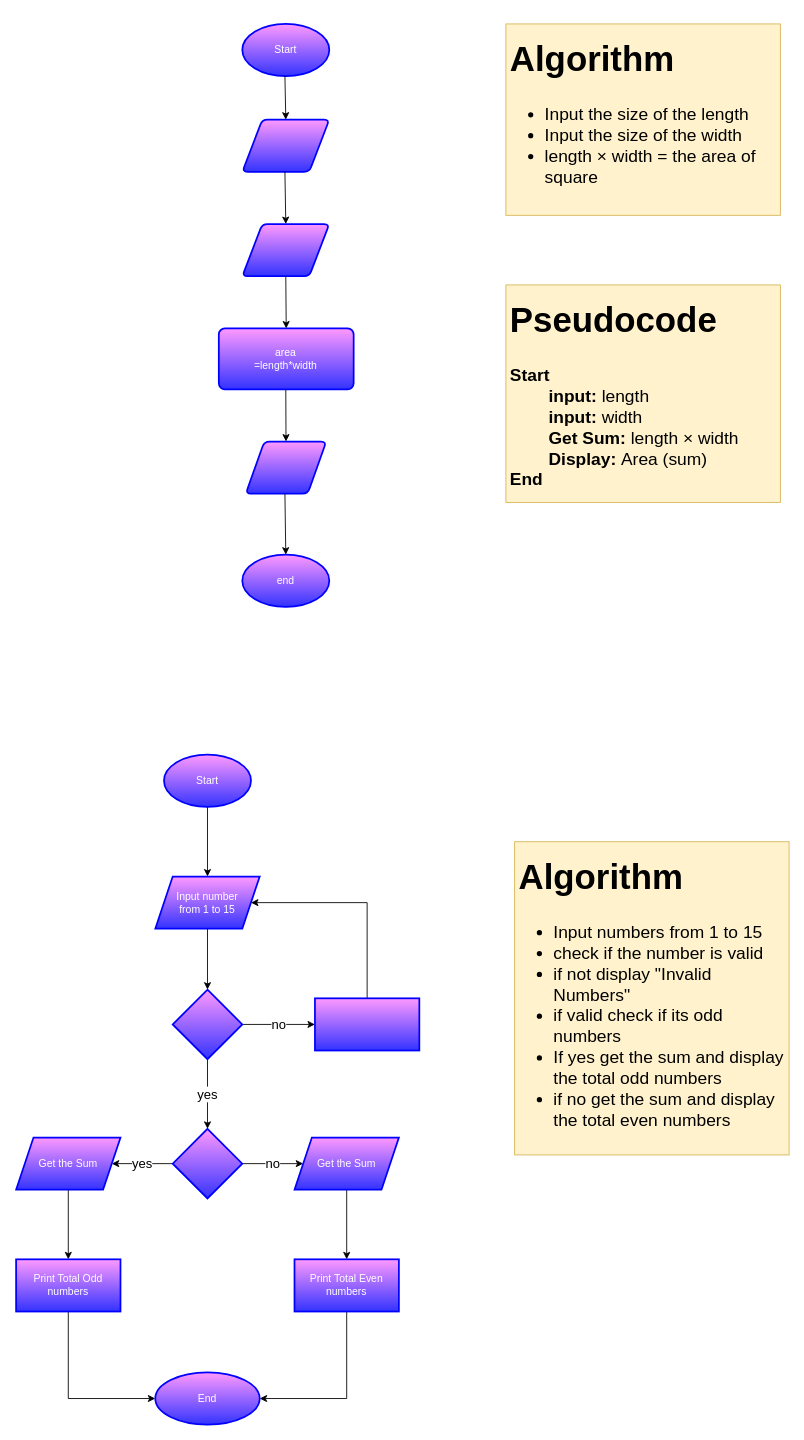
Some shapes in this 804 by 1440 pixel diagram are drawn without their labels. The centre of each missing label's shape, as x and y in pixels:
"Display invalid number" goes at (367,1024).
"Input Length" goes at (285,145).
"Input width" goes at (285,250).
"is the num 1 to 15?" goes at (207,1024).
"odd Numbers?" goes at (207,1163).
"Print" goes at (285,467).
